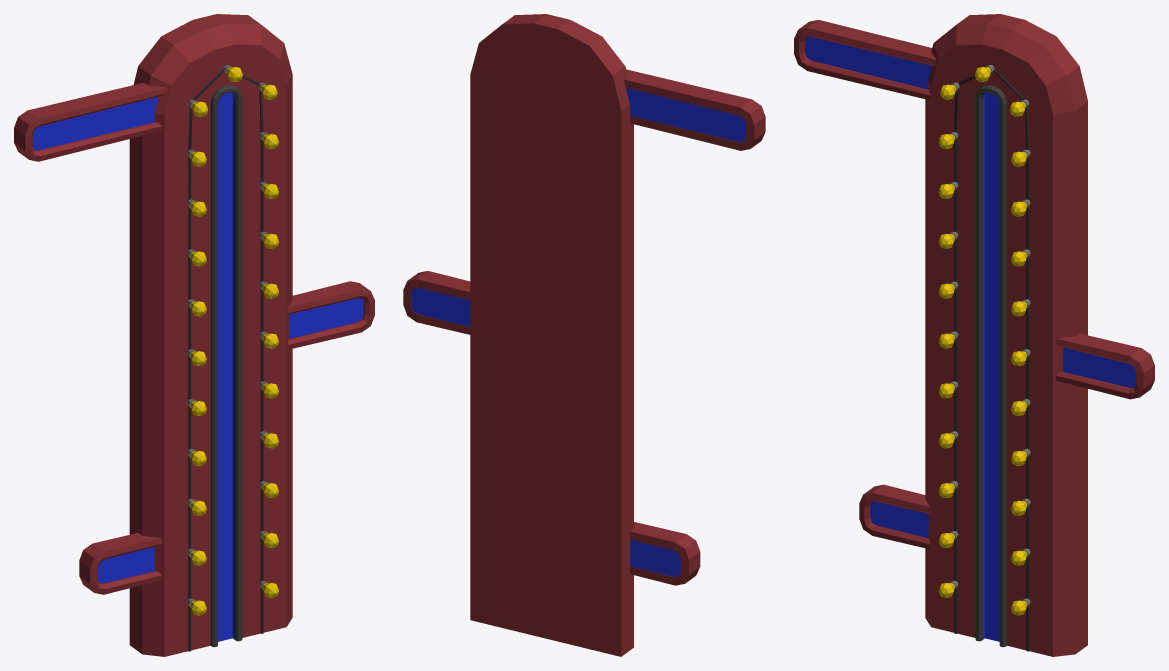
Rendered from HitTheLucas.fbx.
3 views of the same model, side by side, from view 1: azimuth 30°, elevation 25°; view 2: azimuth 150°, elevation 25°; view 3: azimuth 330°, elevation 25° (orthographic).
Parts seen in each view (by area): view 1: Cube, Cube.009, LampCuve, Cube.002; view 2: Cube, Cube.009; view 3: Cube, Cube.009, LampCuve, Cube.002.
Part boxes in pixels (x1=…): Cube: x1=129, y1=14, x2=292, y2=656; Cube.009: x1=14, y1=82, x2=374, y2=594; LampCuve: x1=187, y1=64, x2=279, y2=651; Cube.002: x1=210, y1=85, x2=242, y2=647; Cube: x1=470, y1=14, x2=633, y2=656; Cube.009: x1=403, y1=69, x2=765, y2=585; Cube: x1=925, y1=14, x2=1087, y2=656; Cube.009: x1=794, y1=19, x2=1154, y2=549; LampCuve: x1=938, y1=65, x2=1030, y2=651; Cube.002: x1=975, y1=85, x2=1006, y2=647.
Size of the model in its own units: 183 by 306 by 31.4.
